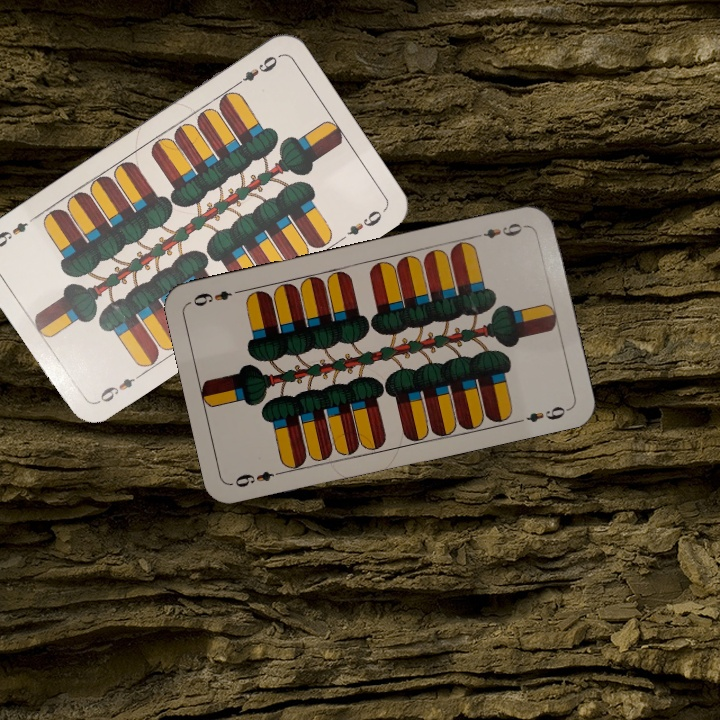E9: (230, 51, 282, 90), (93, 369, 146, 407), (470, 218, 529, 242), (231, 466, 287, 490)
